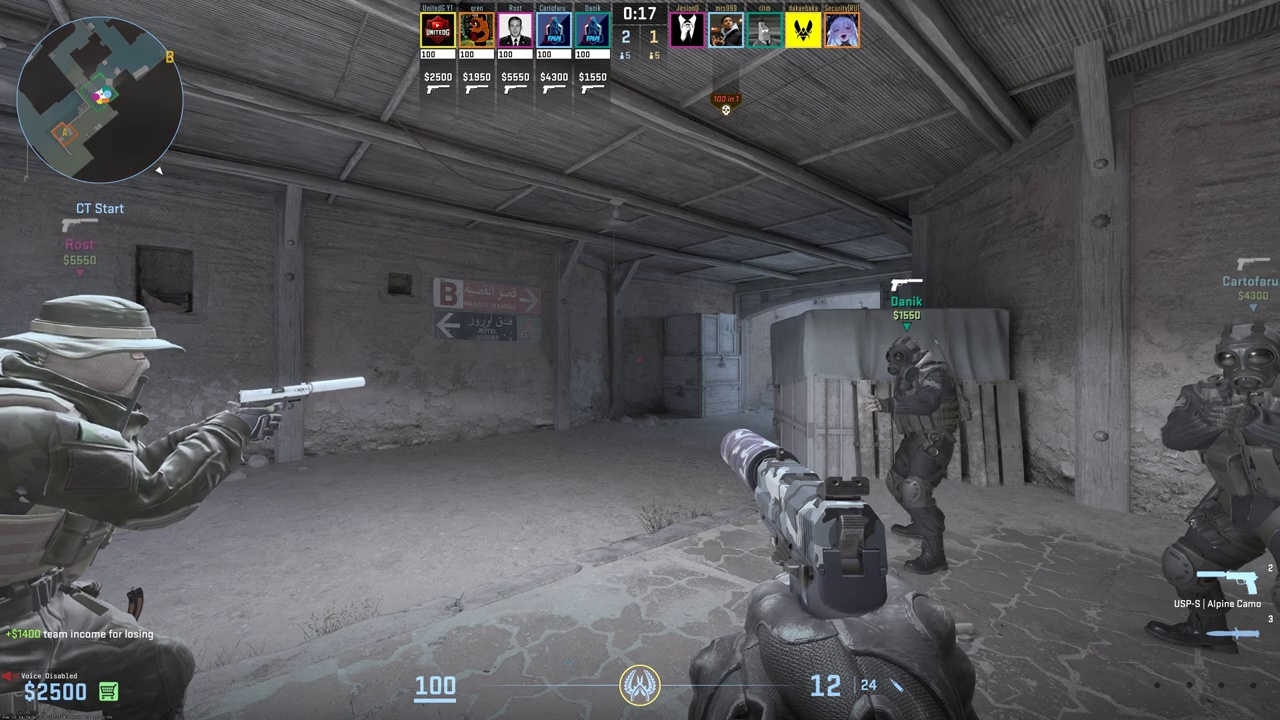CT: (5, 293, 197, 714), (1155, 321, 1280, 647), (875, 339, 960, 570)
